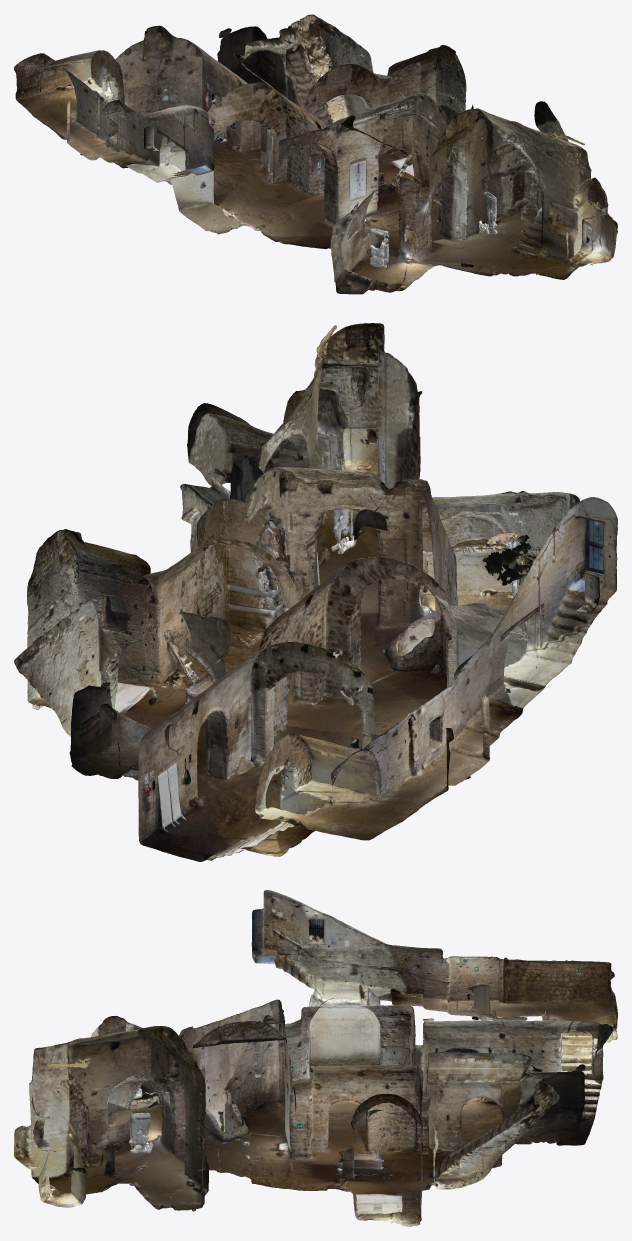
Rendered from space.glb.
3 renders of one model, top to bottom at view 1: azimuth 30°, elevation 25°; view 2: azimuth 150°, elevation 25°; view 3: azimuth 270°, elevation 25°, orthographic. The views are drawn at different scales.
Bounding box in the file's own units: 16.06 × 8.7 × 23.43.
Materials: 9 (9 with a texture image).
